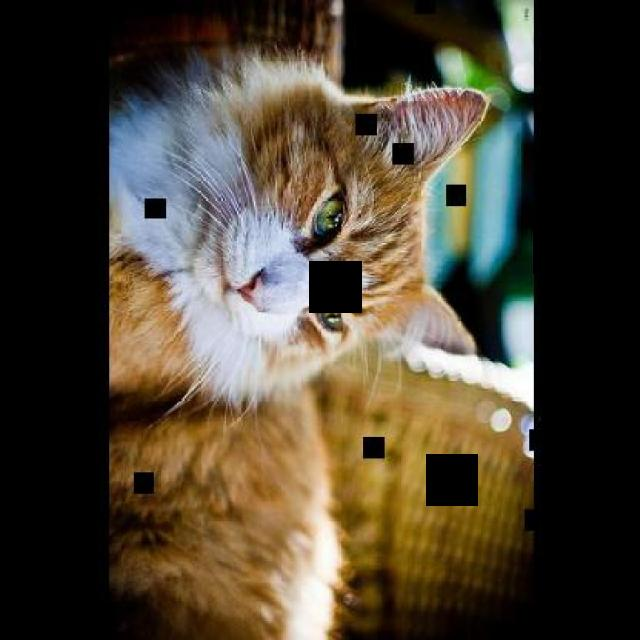unauthorized: (106, 41, 491, 638)
